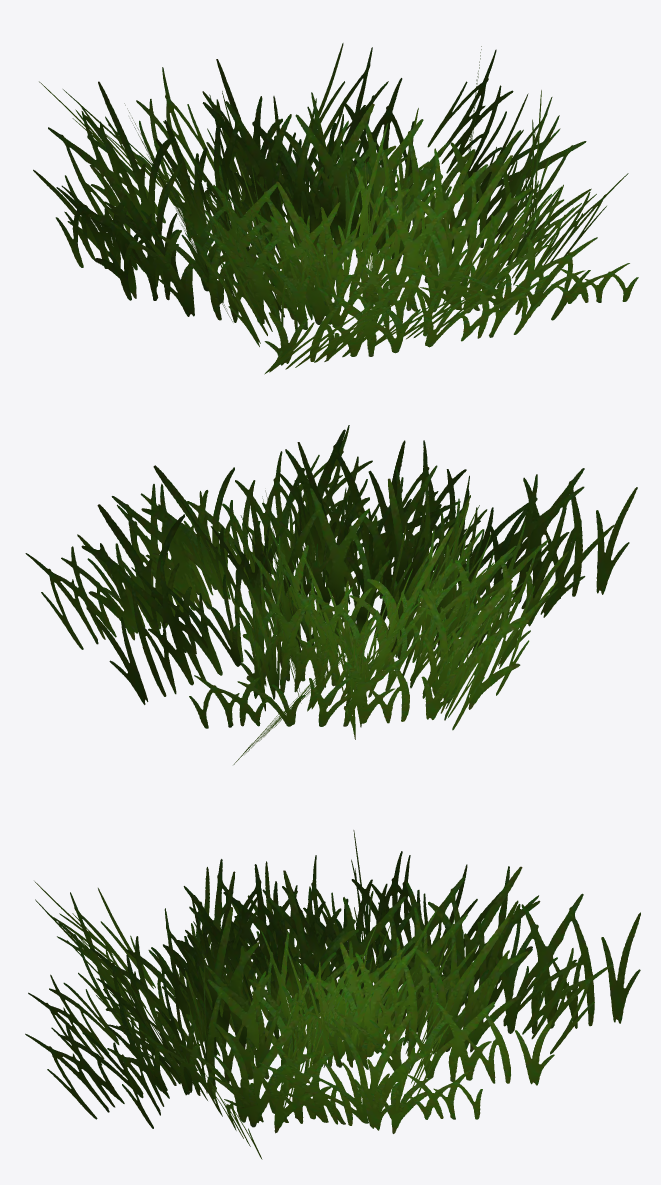
3 renders of one model, top to bottom at view 1: azimuth 30°, elevation 25°; view 2: azimuth 150°, elevation 25°; view 3: azimuth 270°, elevation 25°, orthographic. The views are drawn at different scales.
Parts seen in each view (by area): view 1: SM_BM_GrassShort_02_LOD0; view 2: SM_BM_GrassShort_02_LOD0; view 3: SM_BM_GrassShort_02_LOD0.
Part boxes in pixels (<box>): SM_BM_GrassShort_02_LOD0: <box>33,43,638,374</box>; SM_BM_GrassShort_02_LOD0: <box>25,425,637,764</box>; SM_BM_GrassShort_02_LOD0: <box>25,830,640,1159</box>.
Size of the model in its own units: 0.8139 by 0.309 by 0.9537.
1 material, 1 textured.
